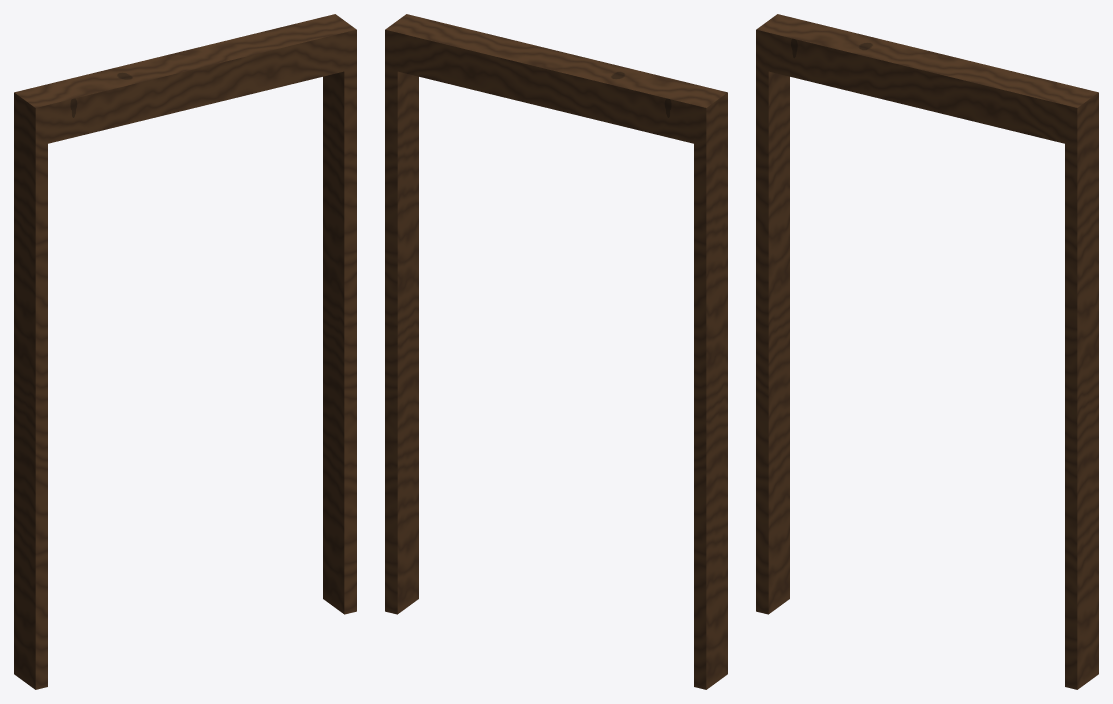
File: door_frame_wide.glb
3 views of the same model, side by side, from view 1: azimuth 30°, elevation 25°; view 2: azimuth 150°, elevation 25°; view 3: azimuth 330°, elevation 25° (orthographic).
Parts seen in each view (by area): view 1: lintel, jamb_l, jamb_r; view 2: lintel, jamb_l, jamb_r; view 3: lintel, jamb_r, jamb_l.
Part boxes in pixels (x1,y1,x2,y2): lintel: (14,14,356,146); jamb_l: (14,131,47,689); jamb_r: (323,68,356,614); lintel: (385,14,727,146); jamb_l: (694,131,727,689); jamb_r: (385,68,418,614); lintel: (756,14,1098,146); jamb_r: (1065,131,1098,689); jamb_l: (756,68,789,614).
Bounding box in the file's own units: 1.3 × 2.25 × 0.15.
Materials: 1 (1 with a texture image).
